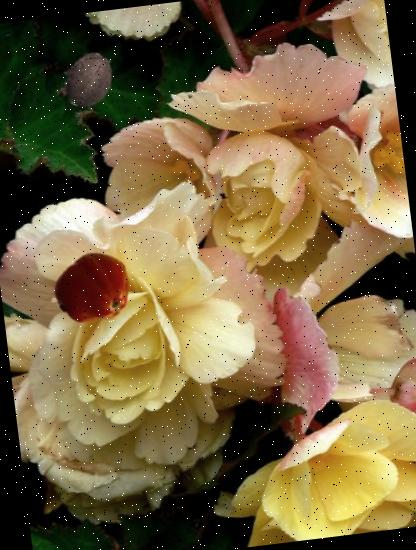Cocos: (57, 49, 122, 114)
Tomato: (52, 246, 138, 332)
